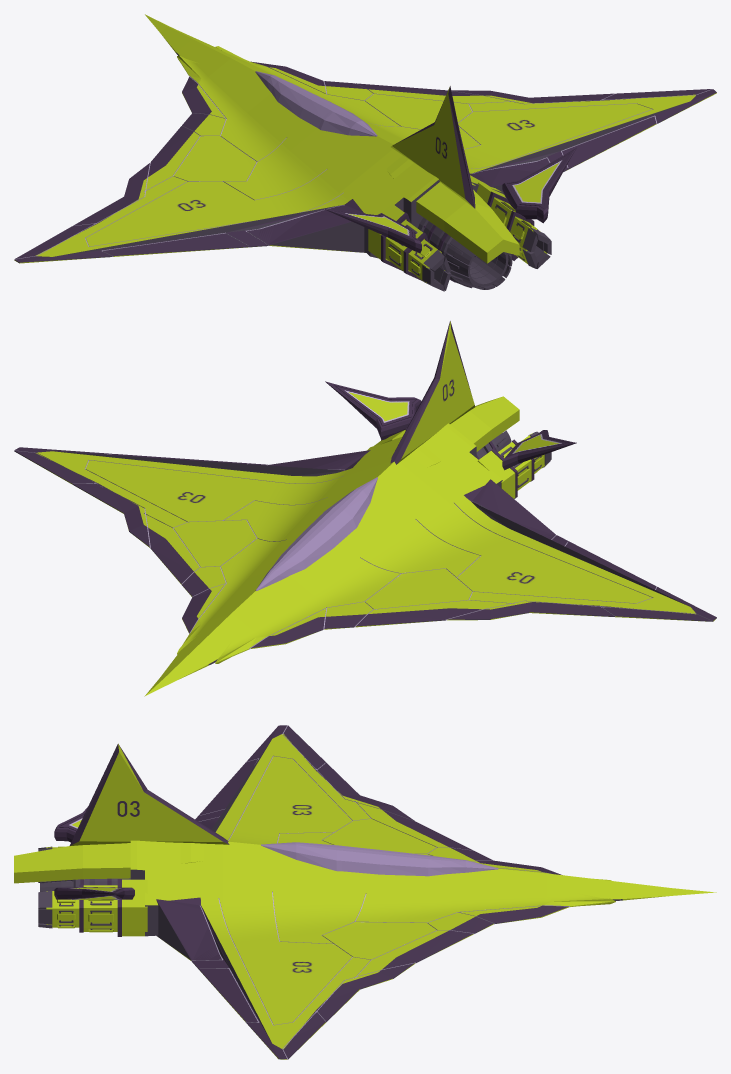
The model's file is A_lime.glb.
3 views of the same model, one above another, from view 1: azimuth 30°, elevation 25°; view 2: azimuth 150°, elevation 25°; view 3: azimuth 270°, elevation 25° (orthographic). The views are drawn at different scales.
Parts seen in each view (by area): view 1: AF_MAIN_WING_L_01, AF_MAIN_WING_R_01, AF_BODY_01, AF_MATCH_AFT_SADDLE, AF_TAIL_CENTER_01, AF_DOME_CENTER_01, AF_REAR_WING_R1_R_reference_kite_outward_canted, AF_PENTAGON_L_STEPPED_HOUSING, AF_REAR_WING_R1_R_reference_kite_outward_canted_L, AF_ENGINE_THERMAL_LINER, AF_PENTAGON_R_STEPPED_HOUSING; view 2: AF_MAIN_WING_L_01, AF_MAIN_WING_R_01, AF_BODY_01, AF_TAIL_CENTER_01, AF_DOME_CENTER_01, AF_MATCH_AFT_SADDLE, AF_REAR_WING_R1_R_reference_kite_outward_canted, AF_REAR_WING_R1_R_reference_kite_outward_canted_L, AF_PENTAGON_L_STEPPED_HOUSING; view 3: AF_MAIN_WING_R_01, AF_BODY_01, AF_MAIN_WING_L_01, AF_TAIL_CENTER_01, AF_DOME_CENTER_01, AF_MATCH_AFT_SADDLE, AF_PENTAGON_R_STEPPED_HOUSING, AF_REAR_WING_R1_R_reference_kite_outward_canted.
Boxes of the visible parts, x1=… form: AF_MAIN_WING_L_01: x1=14, y1=55, x2=365, y2=263; AF_MAIN_WING_R_01: x1=215, y1=46, x2=716, y2=194; AF_BODY_01: x1=145, y1=14, x2=502, y2=258; AF_MATCH_AFT_SADDLE: x1=386, y1=155, x2=519, y2=263; AF_TAIL_CENTER_01: x1=391, y1=86, x2=475, y2=208; AF_DOME_CENTER_01: x1=255, y1=71, x2=377, y2=136; AF_REAR_WING_R1_R_reference_kite_outward_canted: x1=502, y1=148, x2=576, y2=223; AF_PENTAGON_L_STEPPED_HOUSING: x1=368, y1=203, x2=444, y2=282; AF_REAR_WING_R1_R_reference_kite_outward_canted_L: x1=325, y1=209, x2=421, y2=252; AF_ENGINE_THERMAL_LINER: x1=453, y1=242, x2=508, y2=286; AF_PENTAGON_R_STEPPED_HOUSING: x1=476, y1=182, x2=547, y2=263; AF_MAIN_WING_L_01: x1=215, y1=479, x2=716, y2=663; AF_MAIN_WING_R_01: x1=14, y1=447, x2=370, y2=654; AF_BODY_01: x1=144, y1=423, x2=502, y2=696; AF_TAIL_CENTER_01: x1=390, y1=321, x2=475, y2=464; AF_DOME_CENTER_01: x1=255, y1=477, x2=377, y2=590; AF_MATCH_AFT_SADDLE: x1=386, y1=396, x2=519, y2=467; AF_REAR_WING_R1_R_reference_kite_outward_canted: x1=325, y1=381, x2=421, y2=440; AF_REAR_WING_R1_R_reference_kite_outward_canted_L: x1=502, y1=430, x2=576, y2=470; AF_PENTAGON_L_STEPPED_HOUSING: x1=477, y1=433, x2=547, y2=498; AF_MAIN_WING_R_01: x1=156, y1=893, x2=615, y2=1059; AF_BODY_01: x1=130, y1=840, x2=716, y2=936; AF_MAIN_WING_L_01: x1=195, y1=725, x2=611, y2=880; AF_TAIL_CENTER_01: x1=69, y1=743, x2=229, y2=845; AF_DOME_CENTER_01: x1=261, y1=842, x2=498, y2=876; AF_MATCH_AFT_SADDLE: x1=14, y1=842, x2=203, y2=883; AF_PENTAGON_R_STEPPED_HOUSING: x1=46, y1=879, x2=147, y2=936; AF_REAR_WING_R1_R_reference_kite_outward_canted: x1=54, y1=887, x2=134, y2=899.
Bounding box in the file's own units: 14.65 × 3.93 × 13.03.
Materials: 20 (6 with a texture image).
